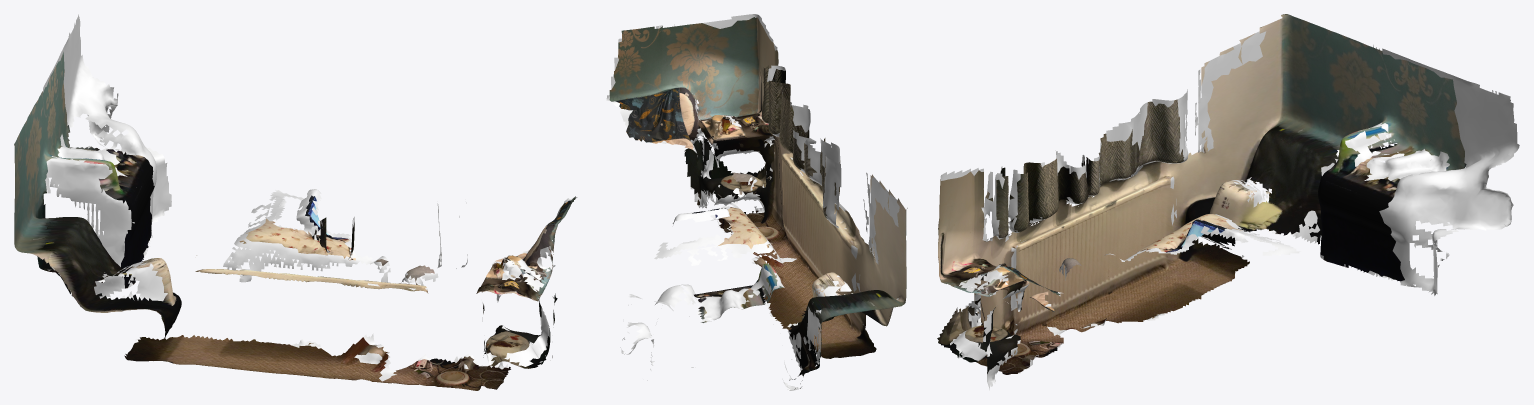
3 views of the same model, side by side, from view 1: azimuth 30°, elevation 25°; view 2: azimuth 150°, elevation 25°; view 3: azimuth 270°, elevation 25° (orthographic). The views are drawn at different scales.
Visible parts, largest first — view 1: texture_1, object 1, texture_2, texture_0; view 2: texture_0, texture_1, object 1, texture_2; view 3: texture_1, object 1, texture_2, texture_0.
Boxes of the visible parts, x1,y1,x2,y2 form: texture_1: [14, 52, 498, 389]; object 1: [41, 14, 577, 382]; texture_2: [122, 258, 555, 389]; texture_0: [449, 196, 575, 390]; texture_0: [609, 17, 780, 240]; texture_1: [692, 69, 907, 389]; object 1: [606, 14, 899, 390]; texture_2: [684, 69, 875, 355]; texture_1: [968, 14, 1466, 334]; object 1: [936, 31, 1519, 390]; texture_2: [937, 158, 1249, 374]; texture_0: [938, 170, 1059, 373].
Bounding box in the file's own units: 3.25 × 1.46 × 3.81.
Materials: 4 (3 with a texture image).
